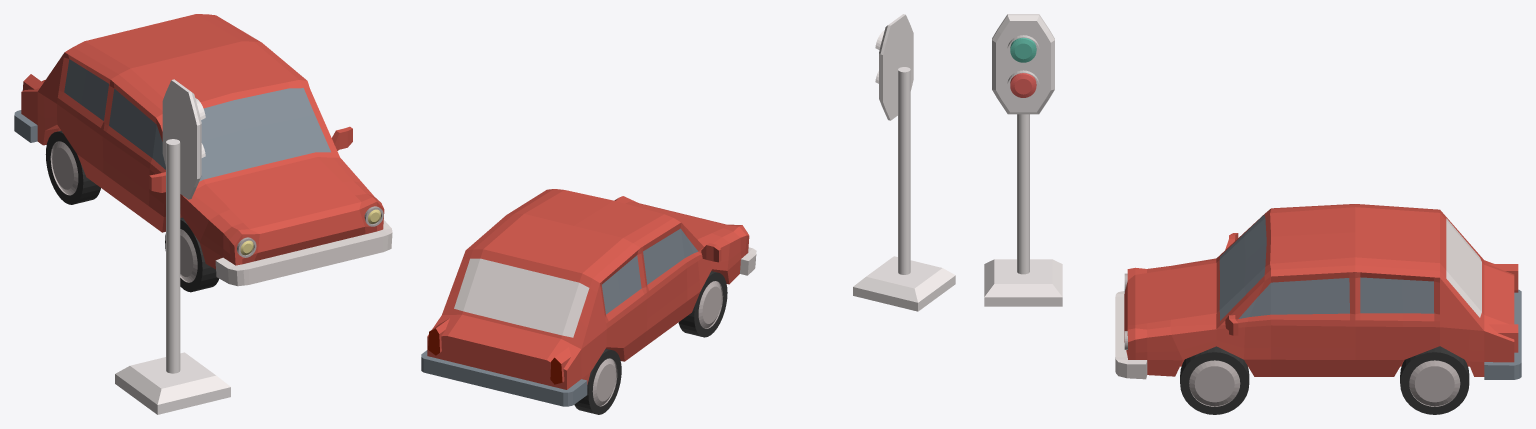
Rendered from car.fbx.
The picture shows the model from 3 angles, left to right: view 1: azimuth 30°, elevation 25°; view 2: azimuth 150°, elevation 25°; view 3: azimuth 270°, elevation 25°; orthographic projection. The views are drawn at different scales.
Visible parts, largest first — view 1: Cube, 円柱; view 2: Cube, 円柱; view 3: Cube, 円柱.
Boxes of the visible parts, box(x1,y1,x2,y2) form: Cube: box(14, 14, 392, 292); 円柱: box(115, 79, 230, 414); Cube: box(421, 189, 756, 414); 円柱: box(853, 14, 955, 311); Cube: box(1115, 204, 1521, 414); 円柱: box(984, 14, 1062, 306).
Size of the model in its own units: 507 by 448 by 774.
Materials: 2 (2 with a texture image).
